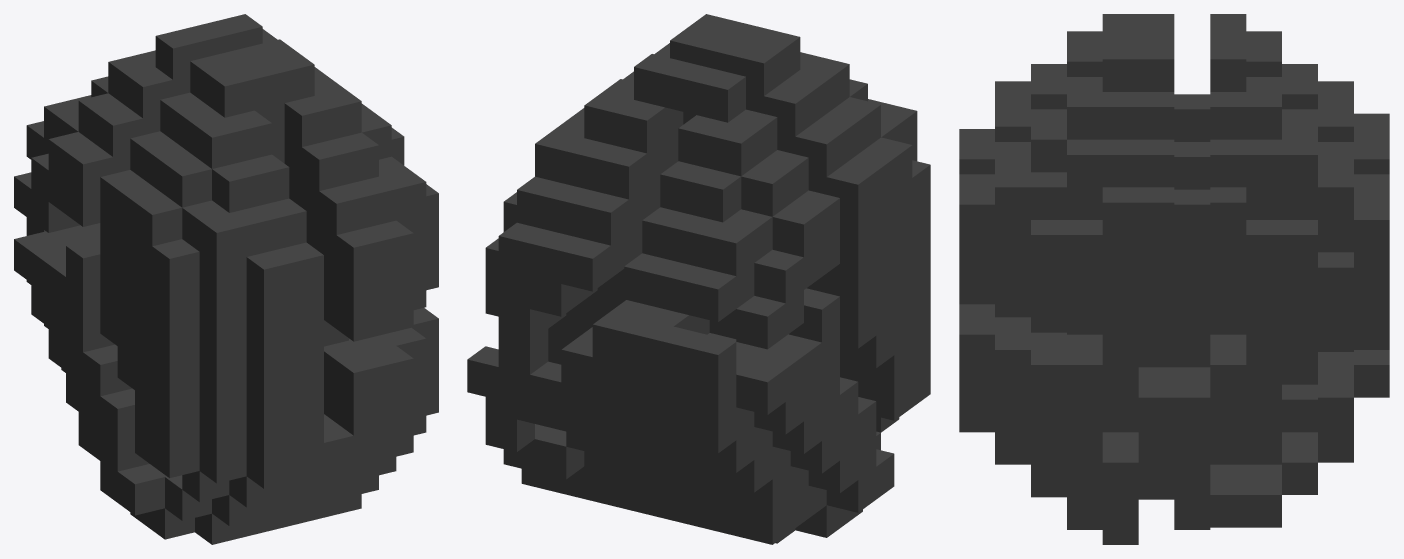
File: ombro-0.obj
3 renders of one model, left to right at view 1: azimuth 30°, elevation 25°; view 2: azimuth 150°, elevation 25°; view 3: azimuth 270°, elevation 25°, orthographic. The views are drawn at different scales.
Bounding box in the file's own units: 0.9 × 1.4 × 1.2.
1 material, 1 textured.
